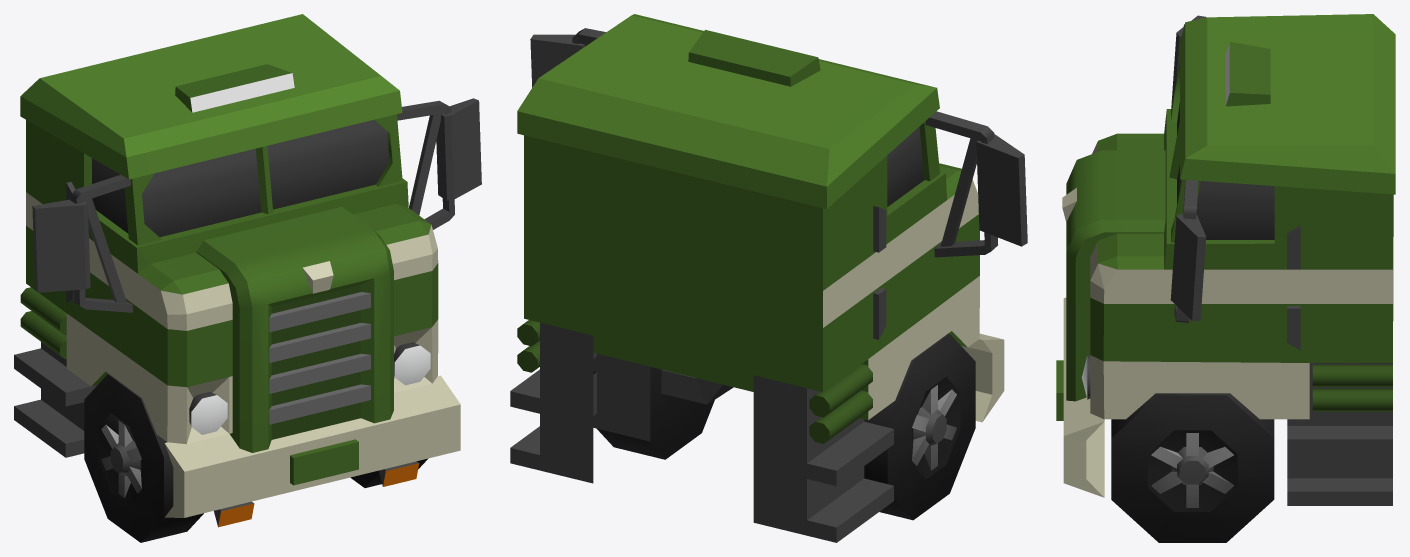
File: head_H_1.fbx
The picture shows the model from 3 angles, left to right: view 1: azimuth 30°, elevation 25°; view 2: azimuth 150°, elevation 25°; view 3: azimuth 270°, elevation 25°; orthographic projection. The views are drawn at different scales.
Parts seen in each view (by area): view 1: head_H_1; view 2: head_H_1; view 3: head_H_1.
Part boxes in pixels (bbox=[...]): head_H_1: bbox=[14, 14, 481, 542]; head_H_1: bbox=[510, 14, 1027, 542]; head_H_1: bbox=[1056, 14, 1395, 542].
Bounding box in the file's own units: 1813 × 1558 × 1174.
